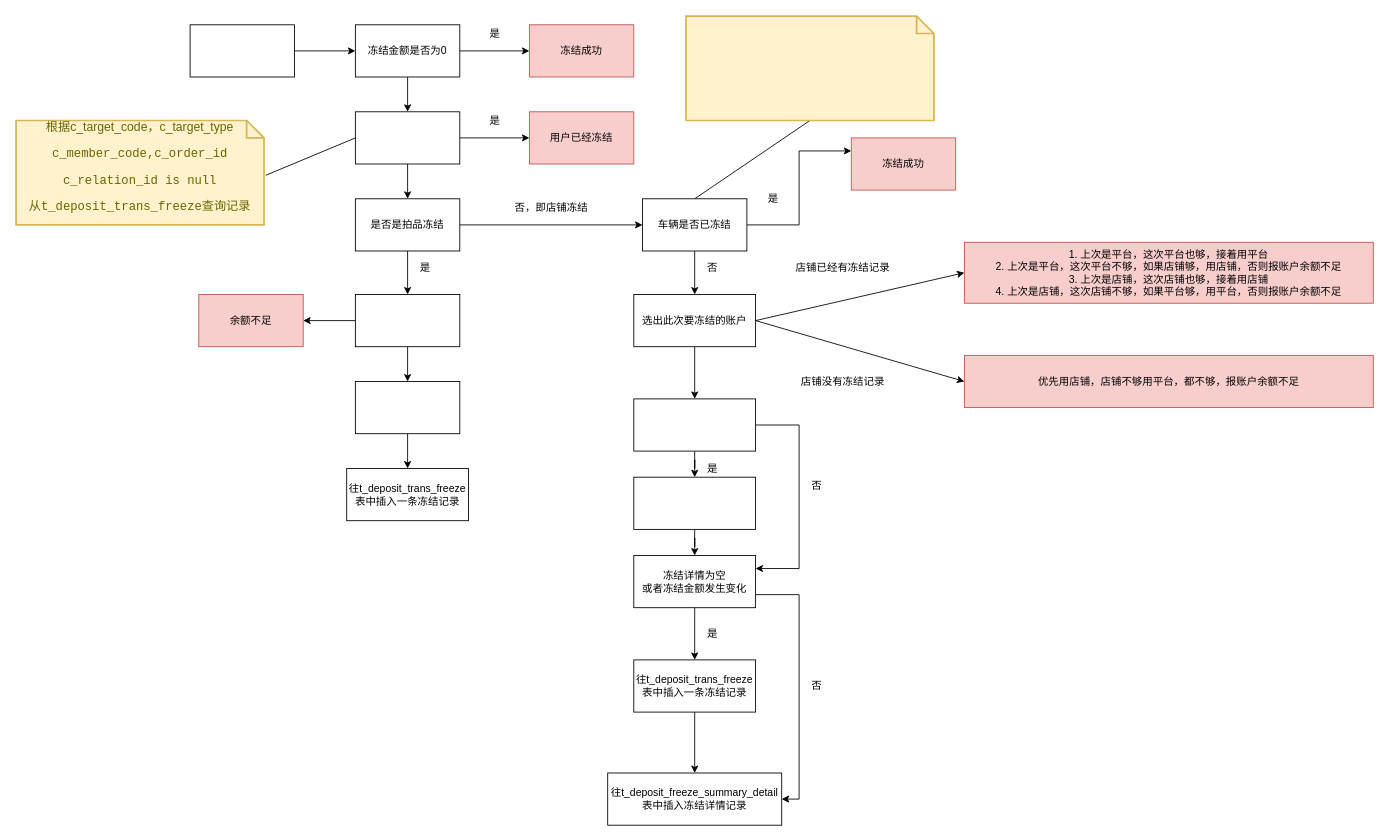
Image size: 1389x840. Some labels were removed from this diagram. The centre of each missing label's shape, as x and y in pixels:
冻结金额 > 账户余额: the point at 407,320
将t_deposit_trans_freez表中的冻结记录解冻: the point at 694,502
店铺配置的冻结金额 是否发生变化: the point at 694,424
更新账户的余额 和可用金额: the point at 407,407
查询是否有冻结记录 并且是单车冻结: the point at 407,137
根据c_target_code， c_target_type 从t_deposit_freeze_summary_detail 查询记录: the point at 809,68
过户保证金冻结: the point at 241,50
